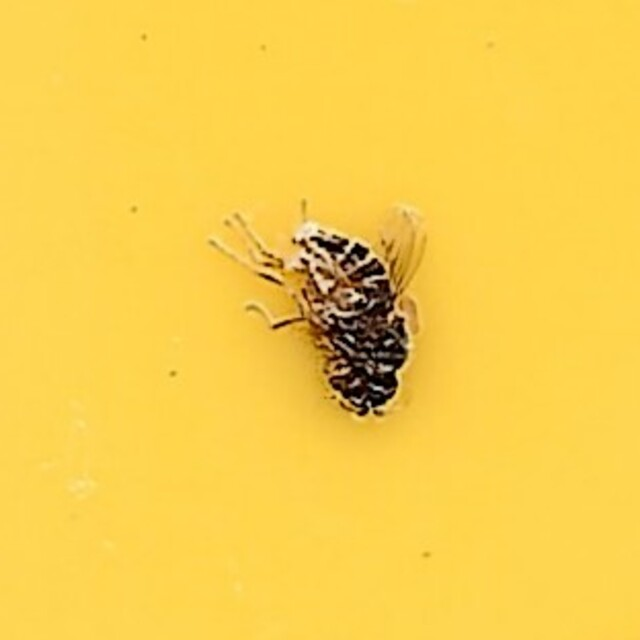Brachycera: (205, 213, 435, 427)
